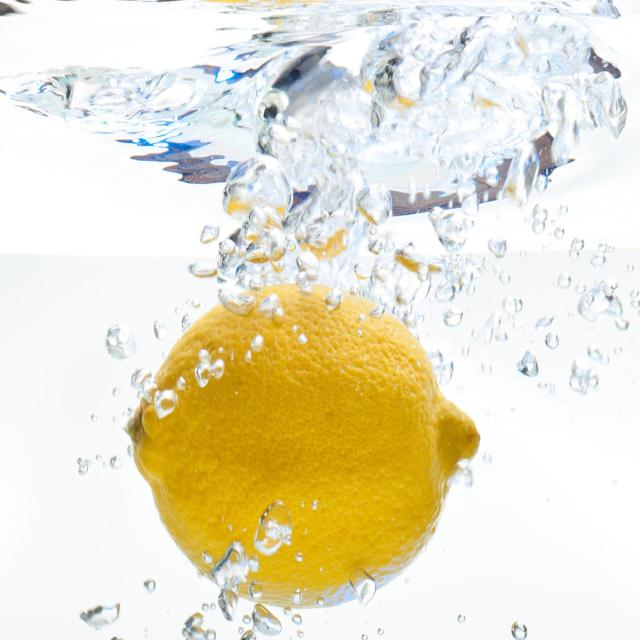lemon: (108, 278, 495, 619)
